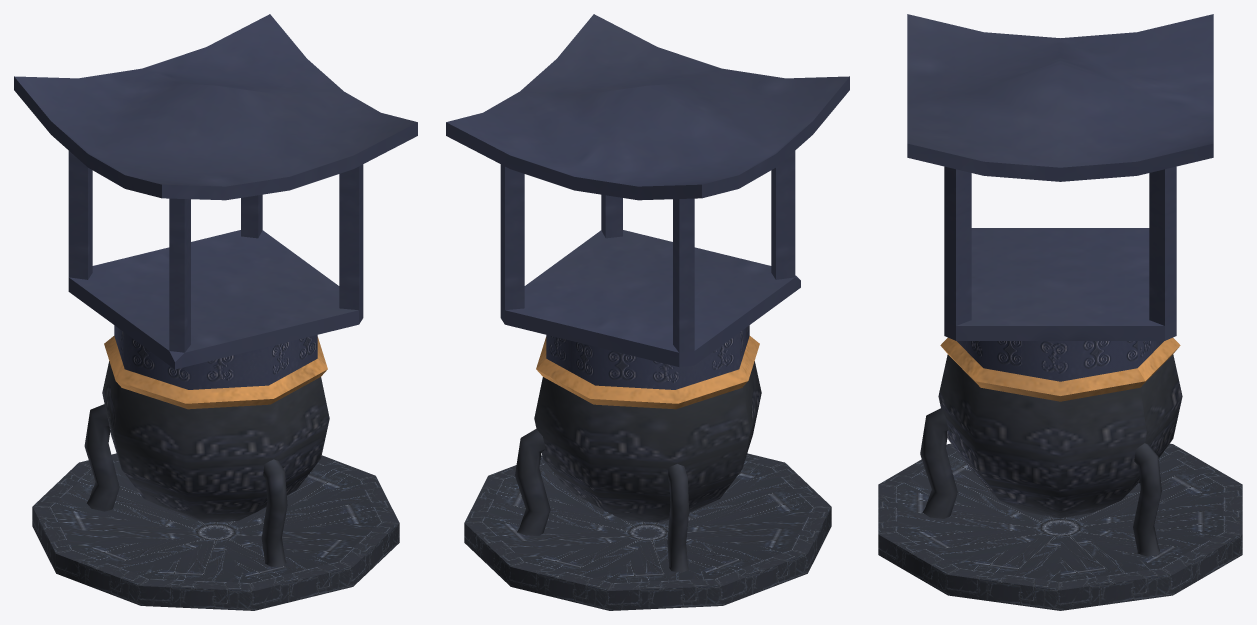
Rendered from OutterLamp_Art.fbx.
3 renders of one model, left to right at view 1: azimuth 30°, elevation 25°; view 2: azimuth 150°, elevation 25°; view 3: azimuth 270°, elevation 25°, orthographic. The views are drawn at different scales.
Visible parts, largest first — view 1: OutterLamp_Art; view 2: OutterLamp_Art; view 3: OutterLamp_Art.
Boxes of the visible parts, <box> form: OutterLamp_Art: <box>14,14,417,610</box>; OutterLamp_Art: <box>446,14,849,610</box>; OutterLamp_Art: <box>878,14,1242,610</box>.
Bounding box in the file's own units: 1.75 × 2.34 × 1.66.
